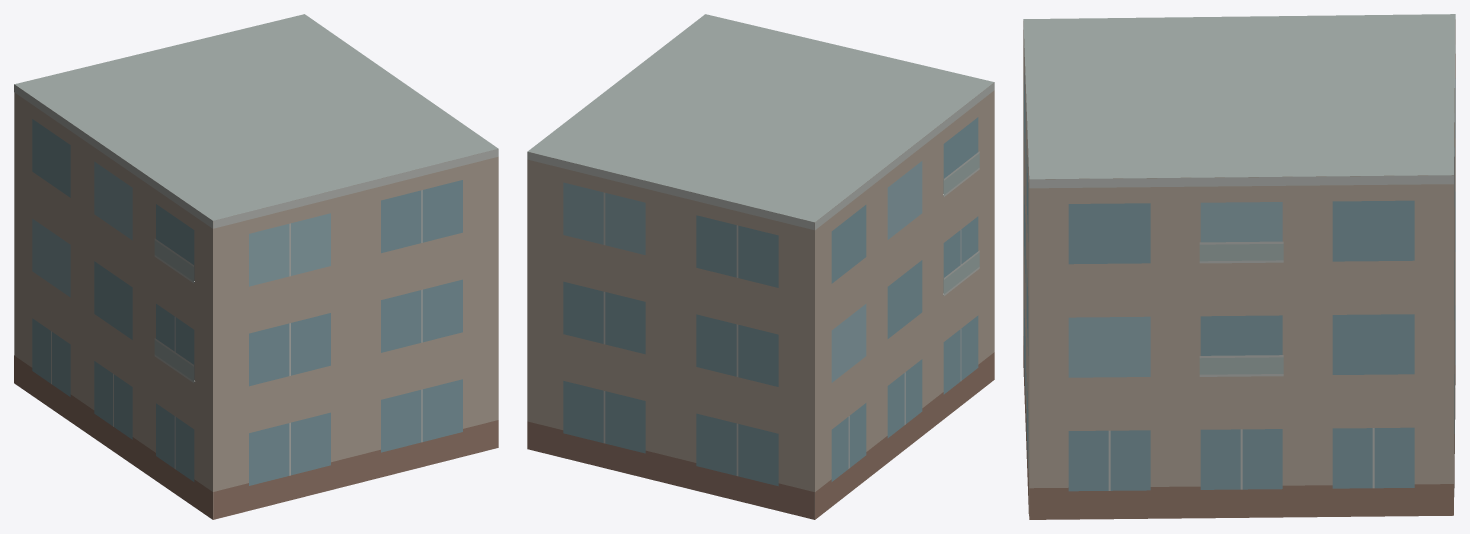
File: survey-upis-32576918.glb
3 renders of one model, left to right at view 1: azimuth 30°, elevation 25°; view 2: azimuth 150°, elevation 25°; view 3: azimuth 270°, elevation 25°, orthographic. The views are drawn at different scales.
Visible parts, largest first — view 1: survey-upis-32576918.tmp; view 2: survey-upis-32576918.tmp; view 3: survey-upis-32576918.tmp.
Boxes of the visible parts, x1,y1,x2,y2 form: survey-upis-32576918.tmp: (14,14,498,519); survey-upis-32576918.tmp: (527,14,994,519); survey-upis-32576918.tmp: (1023,14,1455,519).
Bounding box in the file's own units: 9.53 × 9.15 × 10.53.
